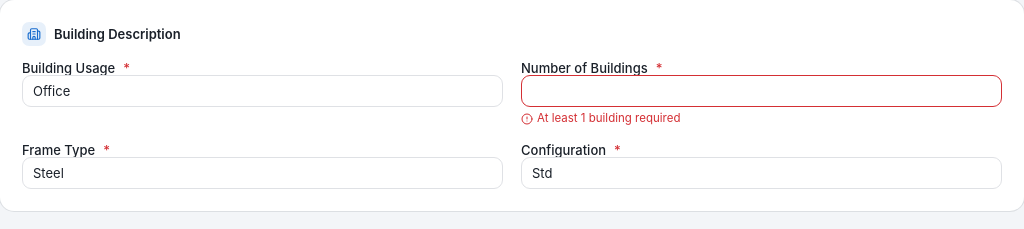
JobDescription (schema-driven) › clears the numberOfBuilding error once a valid count is entered
The image size is (1024, 229).
Check: the text "At least 1 building required" is shown, box [521, 111, 680, 125]
Type "2" into the number field at (762, 91), box [521, 75, 1002, 107]
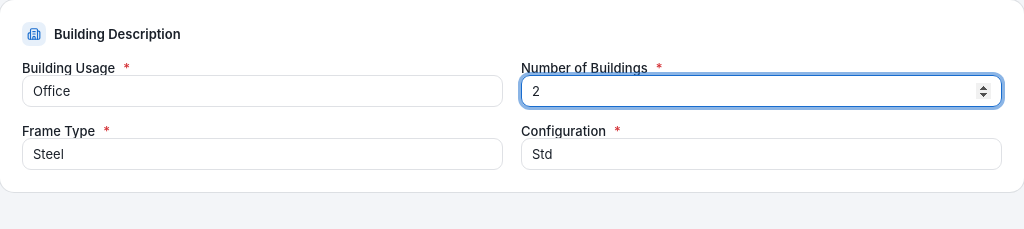
Check: the text "At least 1 building required" is gone
